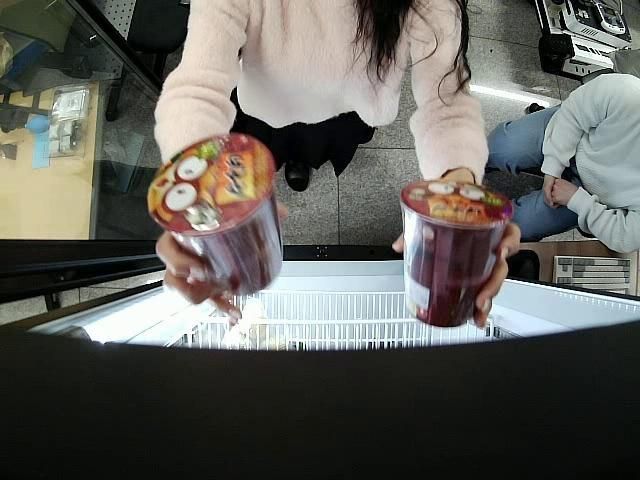06_nuguri_S: (146, 132, 282, 294), (399, 180, 512, 328)
